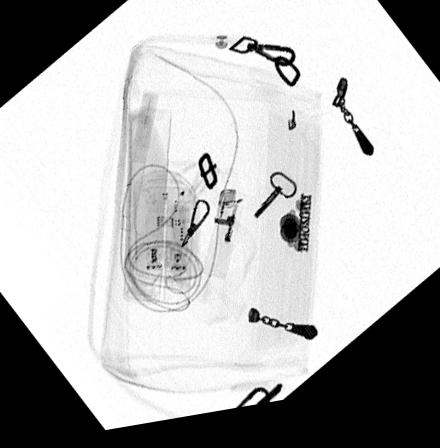Lighter: (201, 195, 243, 286)
